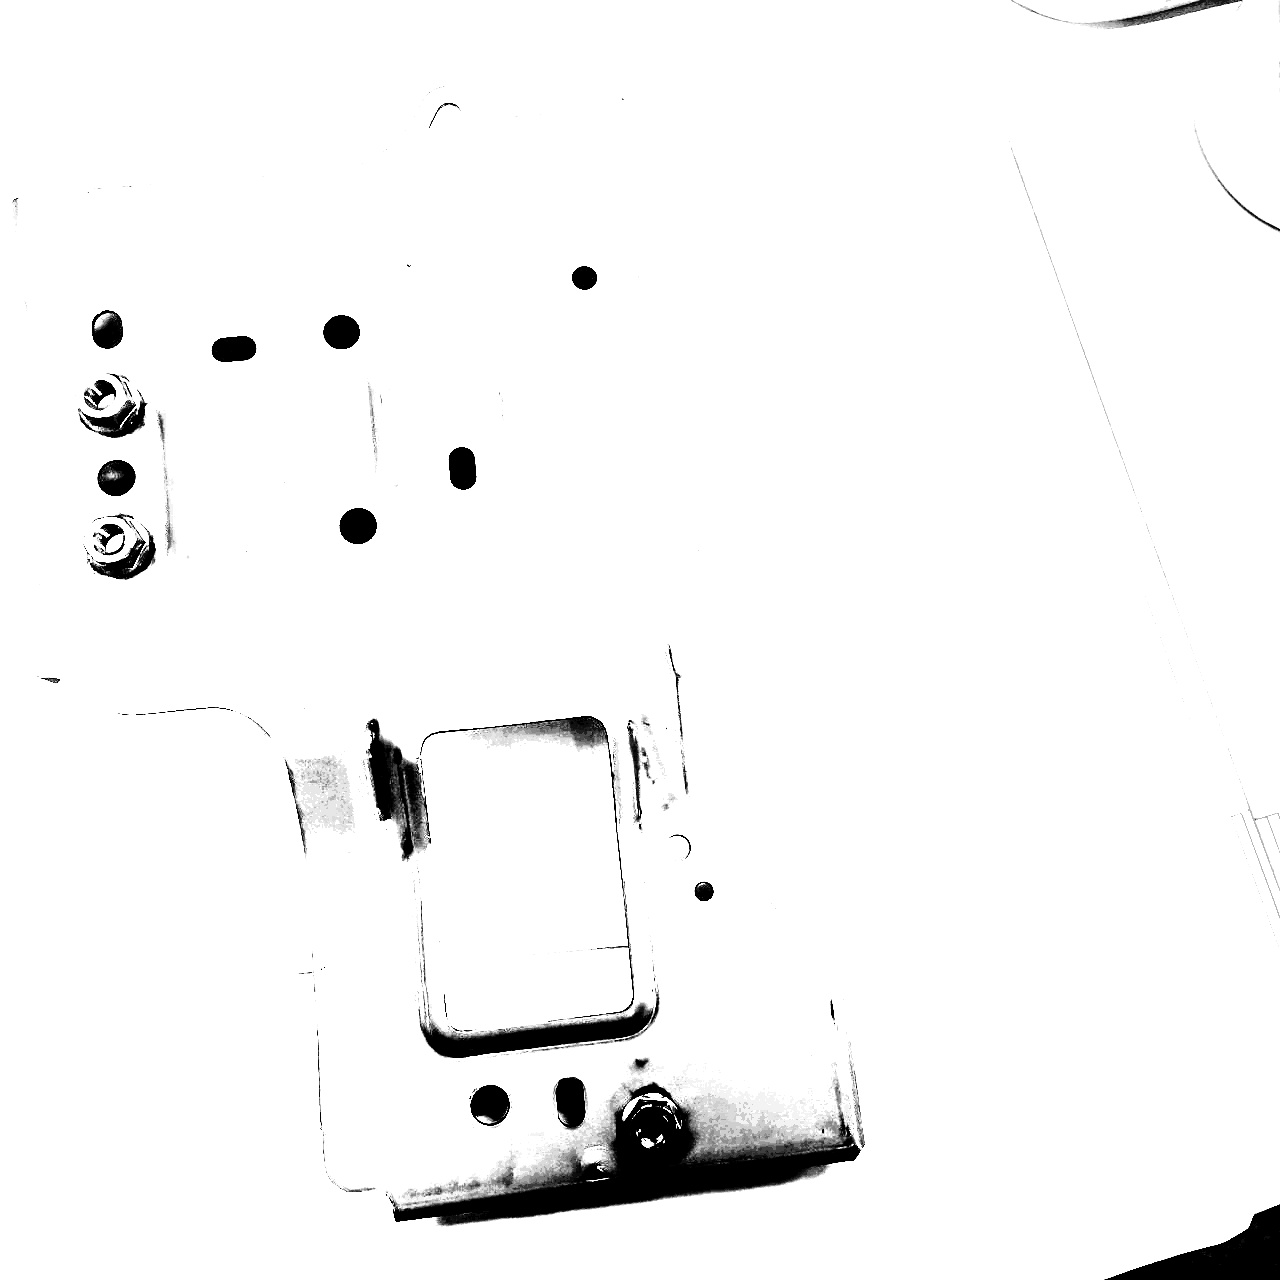dog: (614, 1078, 690, 1164), (72, 370, 150, 440), (80, 510, 156, 580)
